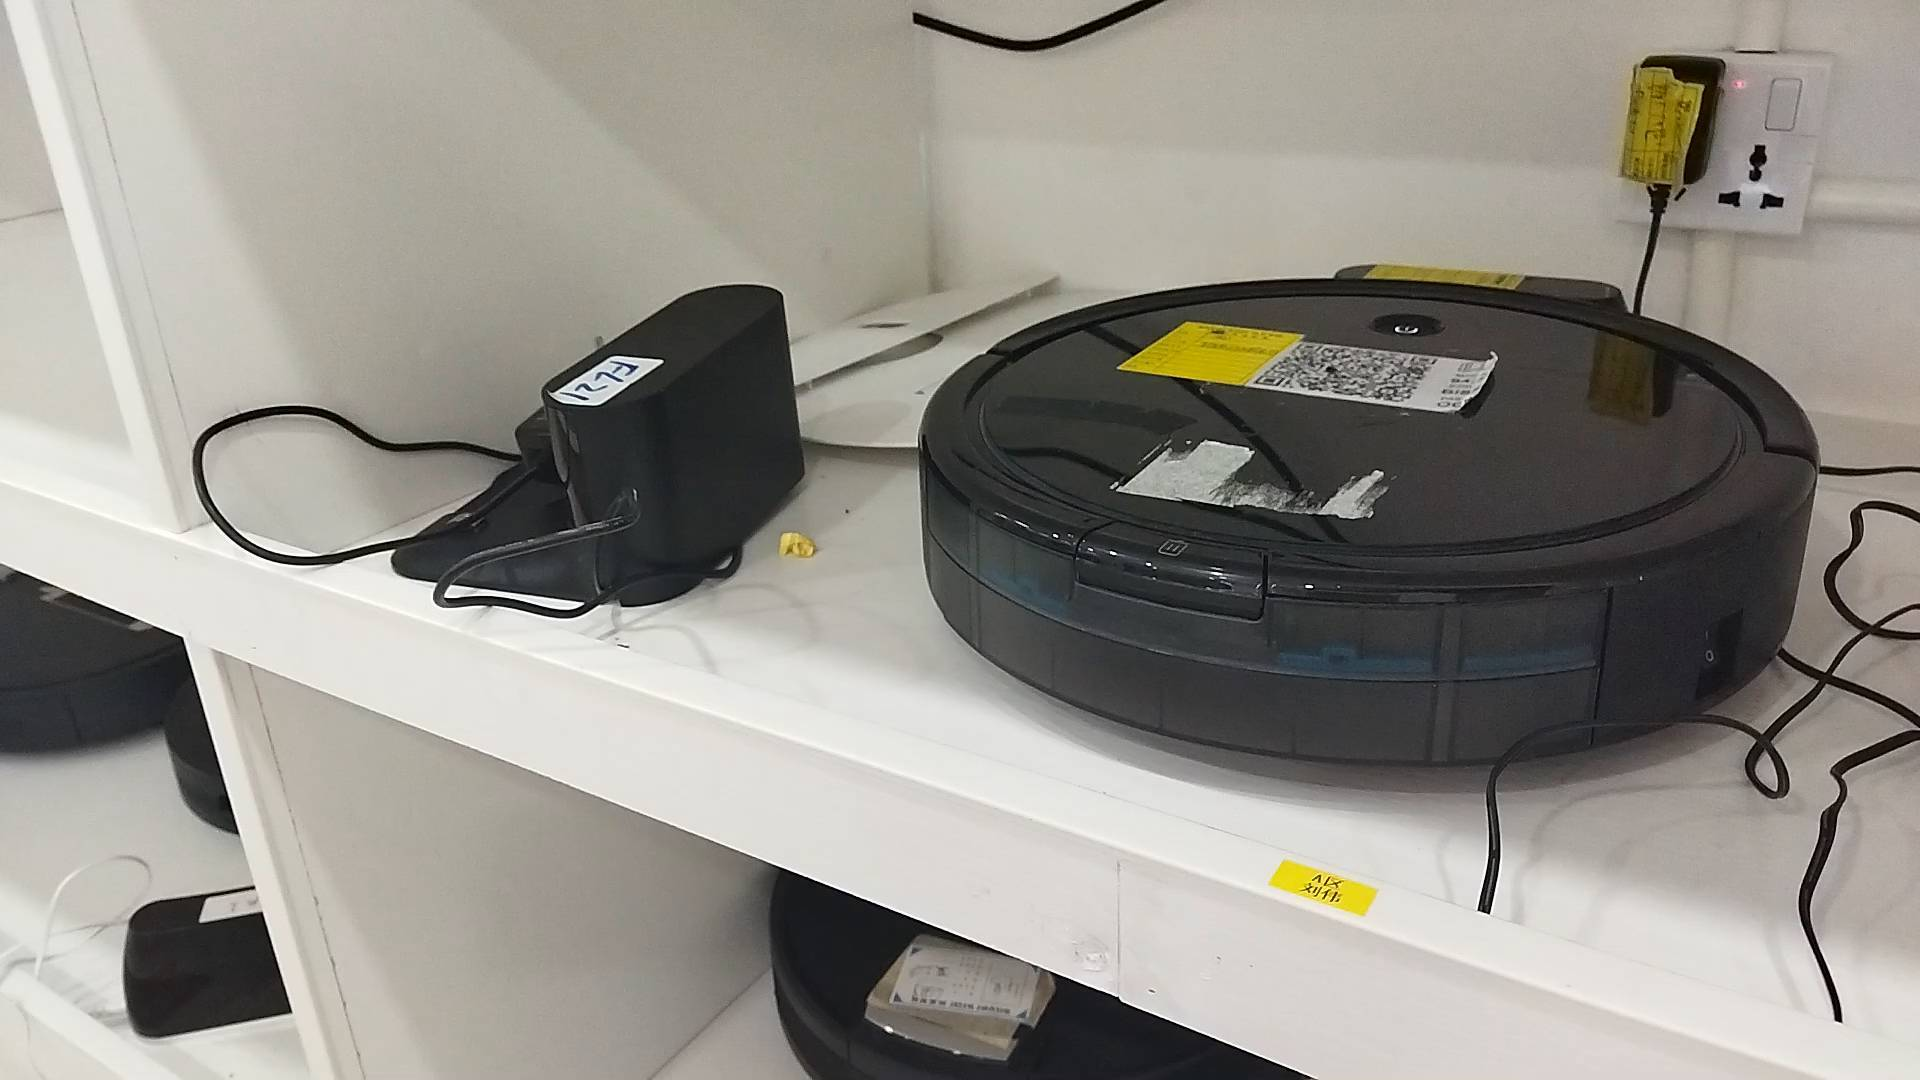recharge seat: (392, 281, 810, 605)
